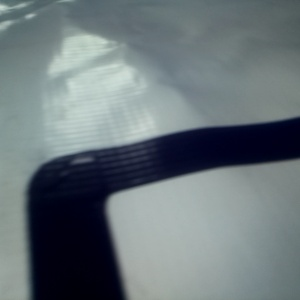bottom_left: (92, 1, 157, 17)
bottom_right: (139, 1, 207, 12)
